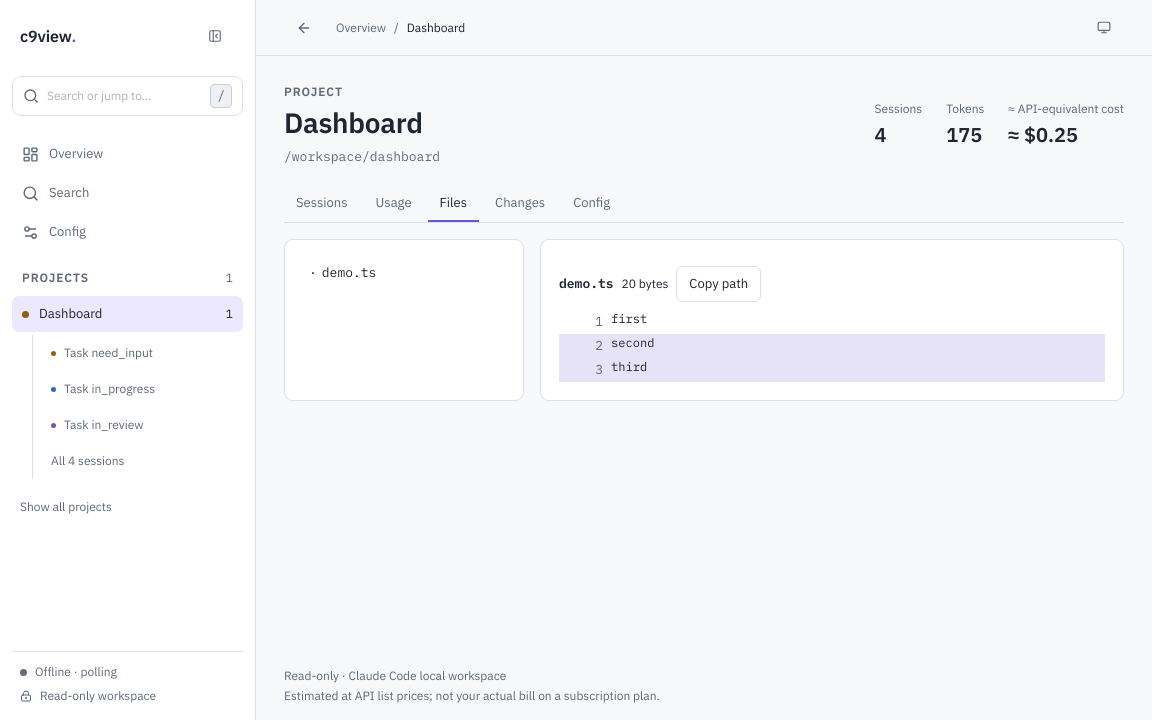
Test: dashboard › opens shareable Files links at the selected line and navigates to Changes
expect the list item with aria-label "Line 2, selected" is shown: met, box [559,334,1105,358]
Click the tab "Changes" at (520,204), box [483,186,557,222]
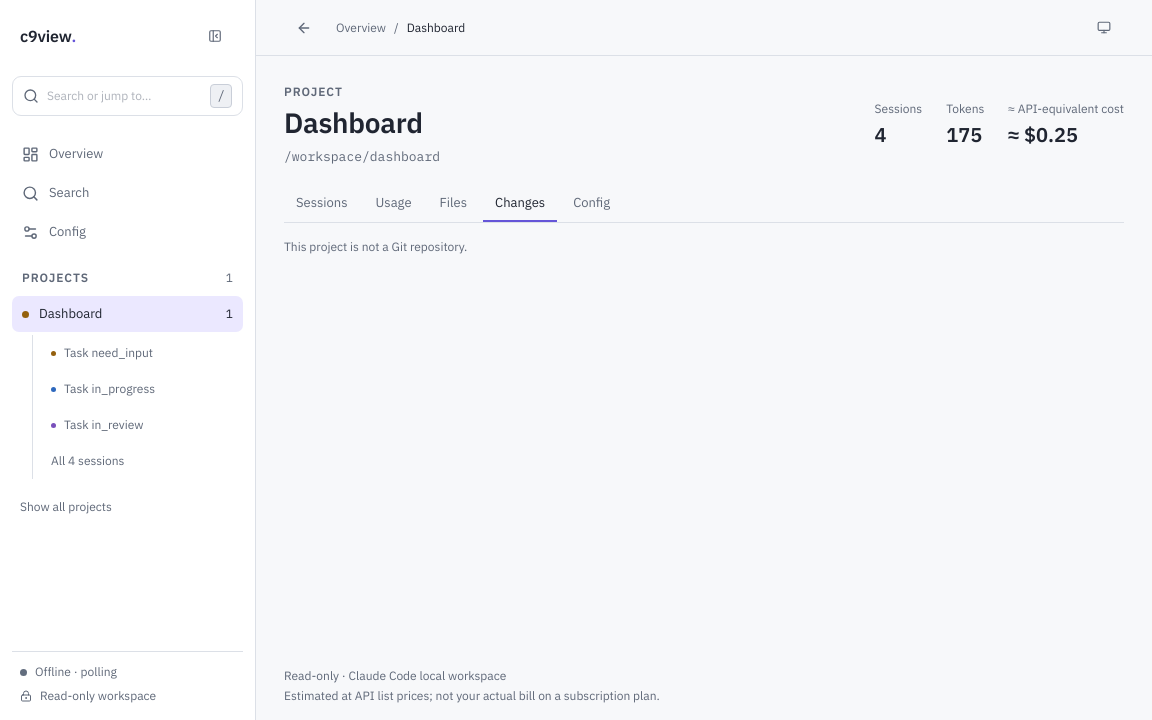
expect the text "This project is not a Git repository." is shown: met, box [284,239,467,254]
